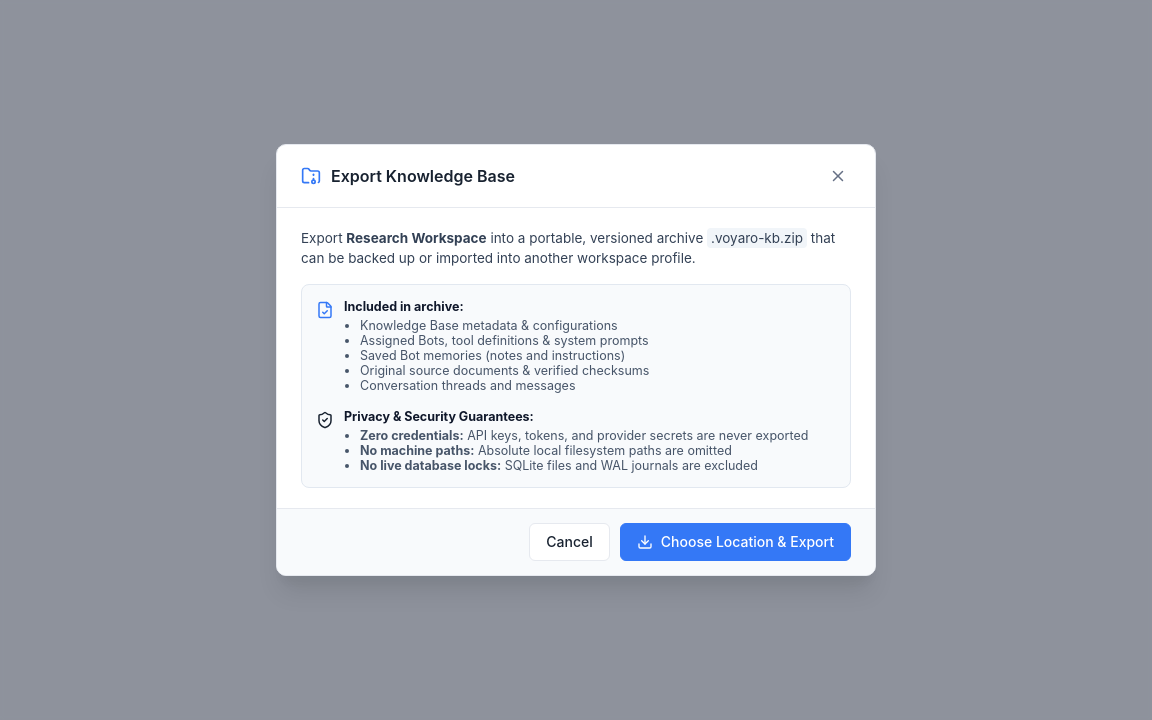
Test: ExportKnowledgeBaseModal › displays error message when export fails
Click the button with test id "btn-confirm-export-kb".
click(735, 542)  # box [620,524,851,561]
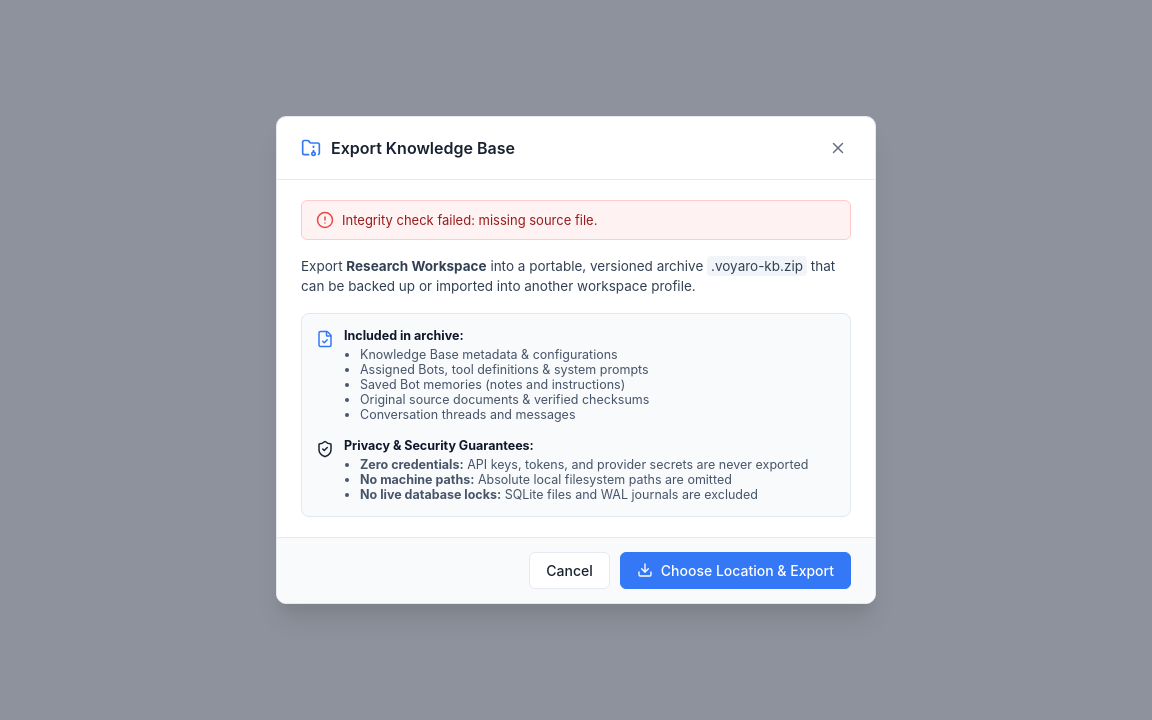
Result: the message "Integrity check failed: missing source file." is shown at [301,200,851,240]
Result: the text "Integrity check failed: missing source file." is shown at [342,211,597,229]
